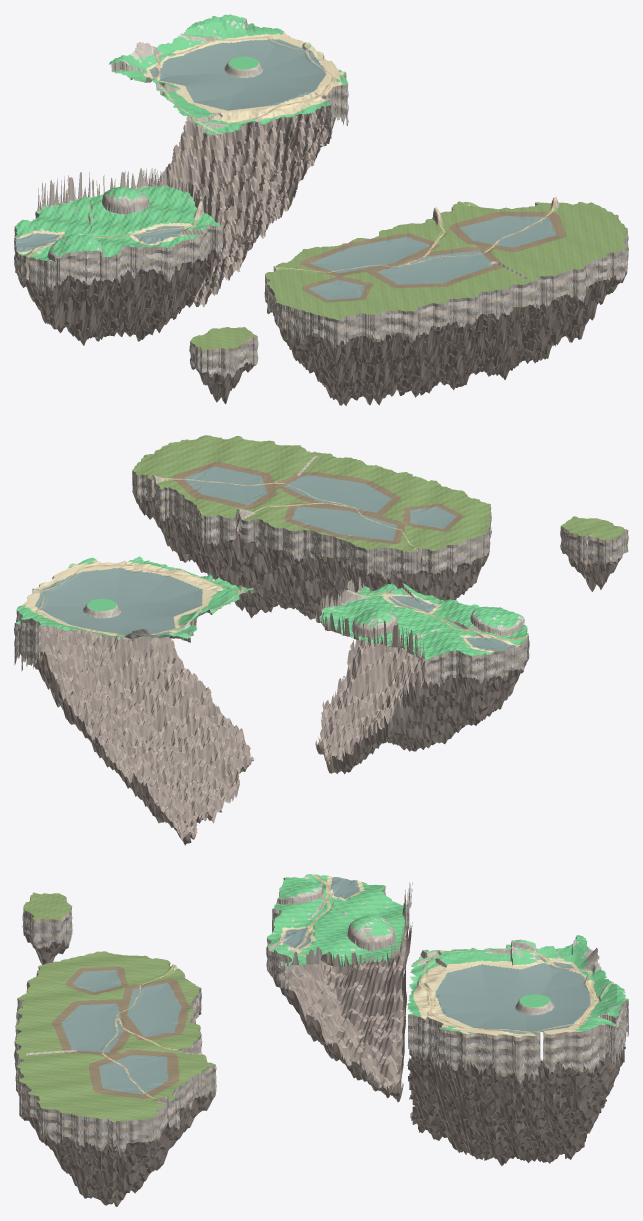
The model's file is Floor1_Waterfall_Valley.fbx.
3 views of the same model, one above another, from view 1: azimuth 30°, elevation 25°; view 2: azimuth 150°, elevation 25°; view 3: azimuth 270°, elevation 25° (orthographic). The views are drawn at different scales.
Visible parts, largest first — view 1: Emerald_Lake_Underside__F1_Rock_Under_6, Riverfall_Valley_Underside__F1_Rock_Under_5, Riverfall_Valley_Underside__F1_Rock_Under_Strata_4, Lotus_Swamp_Underside__F1_Rock_Under_Strata_4, Lotus_Swamp_Underside__F1_Rock_Under_4, Emerald_Lake_Underside__F1_Rock_Under_Strata_14, Emerald_Lake_Underside__F1_Rock_Under_Strata_10, Emerald_Lake_Underside__F1_Rock_Under_4, Lotus_Swamp_Top__F1_Swamp_10, Lotus_Swamp_Top__F1_Swamp_24, Lotus_Swamp_Top__F1_Swamp_17, Lotus_Swamp_Underside__F1_Rock_Under_18 (+91 smaller); view 2: Emerald_Lake_Underside__F1_Rock_Under_Strata_10, Emerald_Lake_Underside__F1_Rock_Under_4, Emerald_Lake_Underside__F1_Rock_Under_3, Emerald_Lake_Underside__F1_Rock_Under_Strata_9, Riverfall_Valley_Underside__F1_Rock_Under_Strata_4, Riverfall_Valley_Underside__F1_Rock_Under_5, Emerald_Lake_Underside__F1_Rock_Under_6, Riverfall_Valley_Underside__F1_Rock_Under_10, Emerald_Lake_Underside__F1_Rock_Under_Strata_7, Riverfall_Valley_Underside__F1_Rock_Under_Strata_9, Emerald_Lake_Underside__F1_Rock_Under_1, Riverfall_Valley_Underside__F1_Rock_Under_2 (+79 smaller); view 3: Riverfall_Valley_Underside__F1_Rock_Under_5, Riverfall_Valley_Underside__F1_Rock_Under_Strata_4, Emerald_Lake_Underside__F1_Rock_Under_Strata_10, Emerald_Lake_Underside__F1_Rock_Under_4, Riverfall_Valley_Underside__F1_Rock_Under_4, Lotus_Swamp_Underside__F1_Rock_Under_21, Lotus_Swamp_Underside__F1_Rock_Under_Strata_21, Emerald_Lake_Underside__F1_Rock_Under_6, Riverfall_Valley_Underside__F1_Rock_Under_Strata_3, Emerald_Lake_Underside__F1_Rock_Under_10, Emerald_Lake_Underside__F1_Rock_Under_Strata_21, Lotus_Swamp_Top__F1_Swamp_17 (+79 smaller).
Part boxes in pixels (left/top/right/bottom): Emerald_Lake_Underside__F1_Rock_Under_6: left=159, top=117, right=279, bottom=210; Riverfall_Valley_Underside__F1_Rock_Under_5: left=50, top=269, right=189, bottom=339; Riverfall_Valley_Underside__F1_Rock_Under_Strata_4: left=61, top=265, right=192, bottom=341; Lotus_Swamp_Underside__F1_Rock_Under_Strata_4: left=265, top=299, right=408, bottom=396; Lotus_Swamp_Underside__F1_Rock_Under_4: left=266, top=302, right=410, bottom=393; Emerald_Lake_Underside__F1_Rock_Under_Strata_14: left=203, top=126, right=274, bottom=208; Emerald_Lake_Underside__F1_Rock_Under_Strata_10: left=241, top=132, right=330, bottom=256; Emerald_Lake_Underside__F1_Rock_Under_4: left=239, top=130, right=327, bottom=261; Lotus_Swamp_Top__F1_Swamp_10: left=385, top=277, right=490, bottom=311; Lotus_Swamp_Top__F1_Swamp_24: left=543, top=218, right=627, bottom=254; Lotus_Swamp_Top__F1_Swamp_17: left=473, top=255, right=572, bottom=290; Lotus_Swamp_Underside__F1_Rock_Under_18: left=493, top=280, right=614, bottom=360; Emerald_Lake_Underside__F1_Rock_Under_Strata_10: left=87, top=636, right=218, bottom=734; Emerald_Lake_Underside__F1_Rock_Under_4: left=85, top=636, right=219, bottom=733; Emerald_Lake_Underside__F1_Rock_Under_3: left=122, top=707, right=234, bottom=799; Emerald_Lake_Underside__F1_Rock_Under_Strata_9: left=119, top=708, right=230, bottom=793; Riverfall_Valley_Underside__F1_Rock_Under_Strata_4: left=372, top=647, right=484, bottom=743; Riverfall_Valley_Underside__F1_Rock_Under_5: left=373, top=647, right=484, bottom=741; Emerald_Lake_Underside__F1_Rock_Under_6: left=38, top=658, right=123, bottom=773; Riverfall_Valley_Underside__F1_Rock_Under_10: left=322, top=640, right=389, bottom=713; Emerald_Lake_Underside__F1_Rock_Under_Strata_7: left=183, top=728, right=254, bottom=822; Riverfall_Valley_Underside__F1_Rock_Under_Strata_9: left=322, top=639, right=389, bottom=718; Emerald_Lake_Underside__F1_Rock_Under_1: left=188, top=725, right=252, bottom=823; Riverfall_Valley_Underside__F1_Rock_Under_2: left=444, top=647, right=528, bottom=725; Riverfall_Valley_Underside__F1_Rock_Under_5: left=286, top=956, right=399, bottom=1051; Riverfall_Valley_Underside__F1_Rock_Under_Strata_4: left=280, top=958, right=399, bottom=1052; Emerald_Lake_Underside__F1_Rock_Under_Strata_10: left=407, top=1049, right=516, bottom=1135; Emerald_Lake_Underside__F1_Rock_Under_4: left=408, top=1054, right=517, bottom=1137; Riverfall_Valley_Underside__F1_Rock_Under_4: left=329, top=1006, right=400, bottom=1090; Lotus_Swamp_Underside__F1_Rock_Under_21: left=44, top=1132, right=160, bottom=1189; Lotus_Swamp_Underside__F1_Rock_Under_Strata_21: left=44, top=1131, right=162, bottom=1191; Emerald_Lake_Underside__F1_Rock_Under_6: left=516, top=1040, right=625, bottom=1135; Riverfall_Valley_Underside__F1_Rock_Under_Strata_3: left=326, top=1007, right=399, bottom=1094; Emerald_Lake_Underside__F1_Rock_Under_10: left=515, top=1051, right=619, bottom=1120; Emerald_Lake_Underside__F1_Rock_Under_Strata_21: left=515, top=1053, right=618, bottom=1119; Lotus_Swamp_Top__F1_Swamp_17: left=15, top=1035, right=61, bottom=1077.
Bounding box in the file's own units: 834184 × 367953 × 890909.
